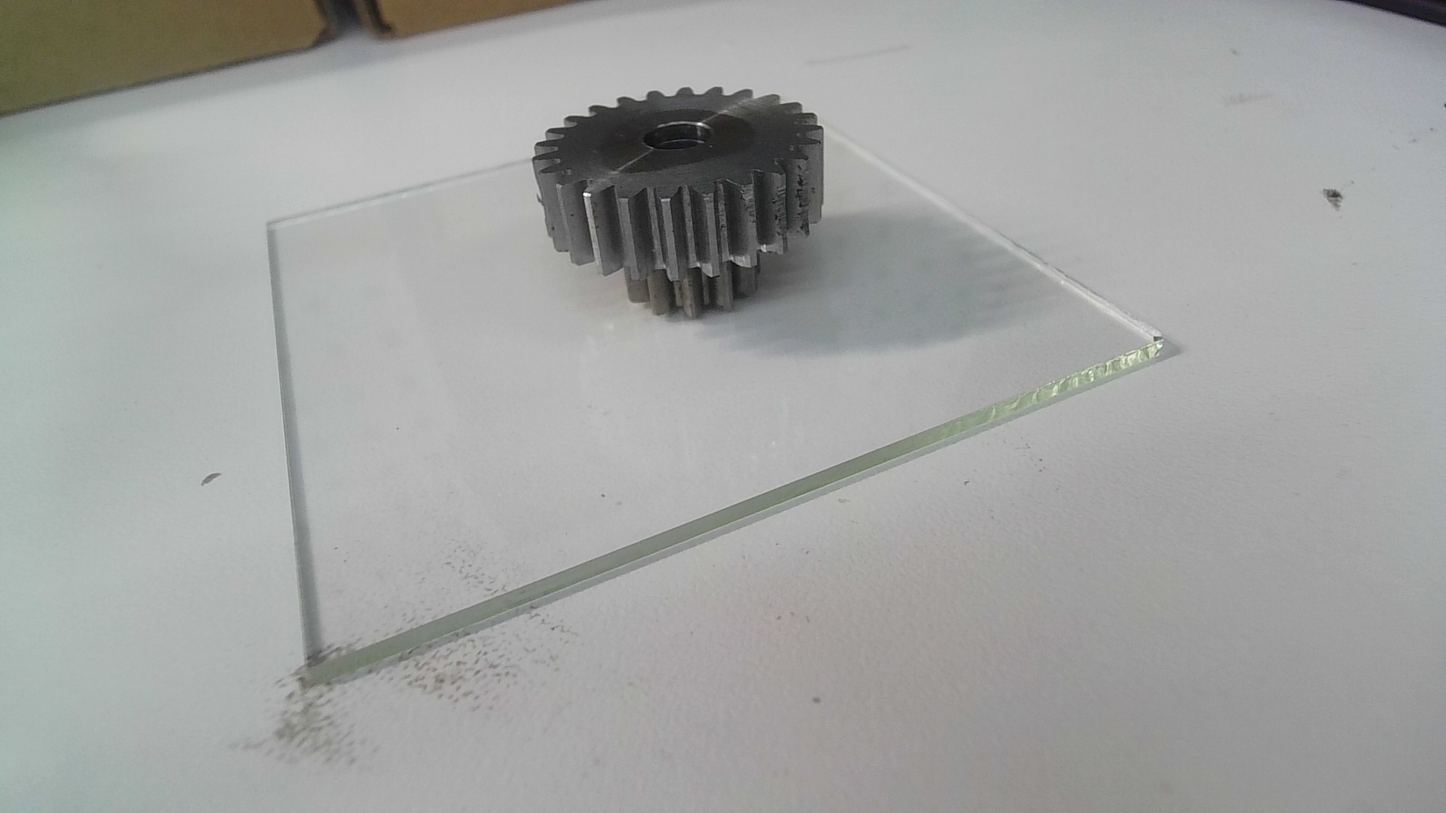gear: (526, 85, 833, 324)
